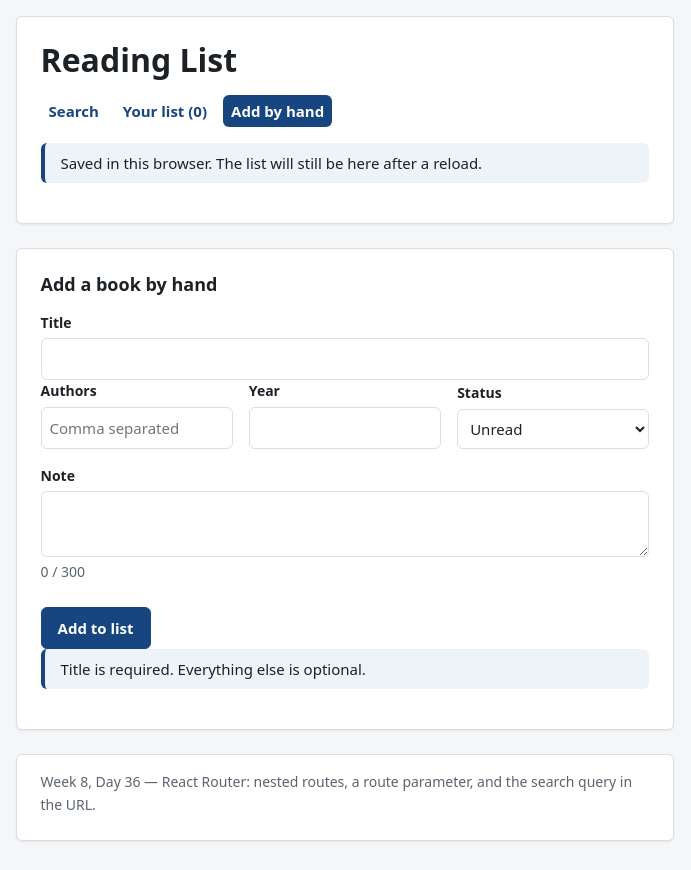
Test: filtering the list › filters by status and reports the count
The image size is (691, 870).
Type "Unread One" into the field labelled "Title".
click(345, 359); type("Unread One")  # box [40,338,649,380]
Click the button "Add to list".
click(96, 628)  # box [40,608,151,650]
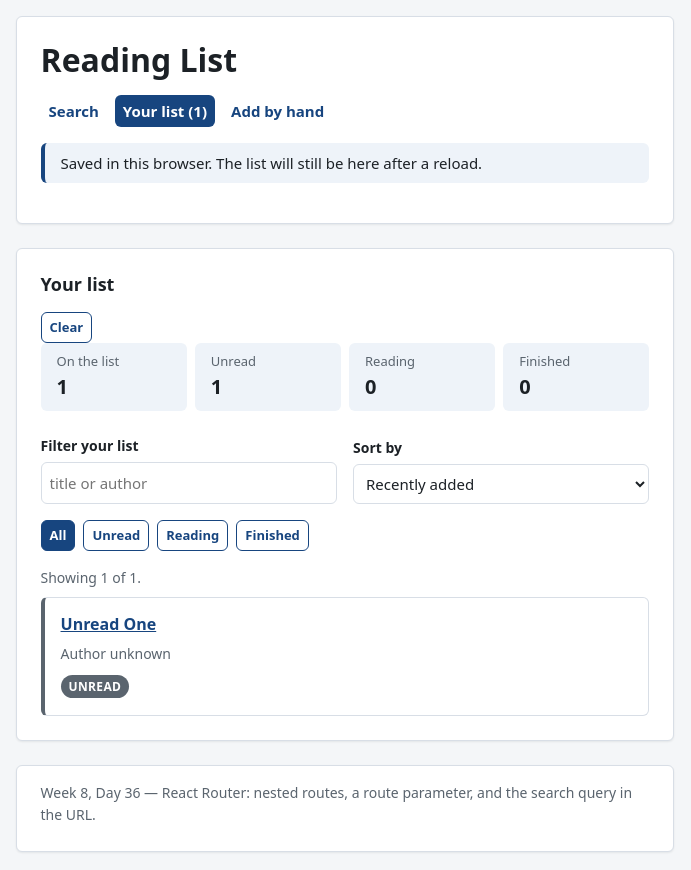
Click the link "Add by hand".
click(278, 111)  # box [223,95,332,127]
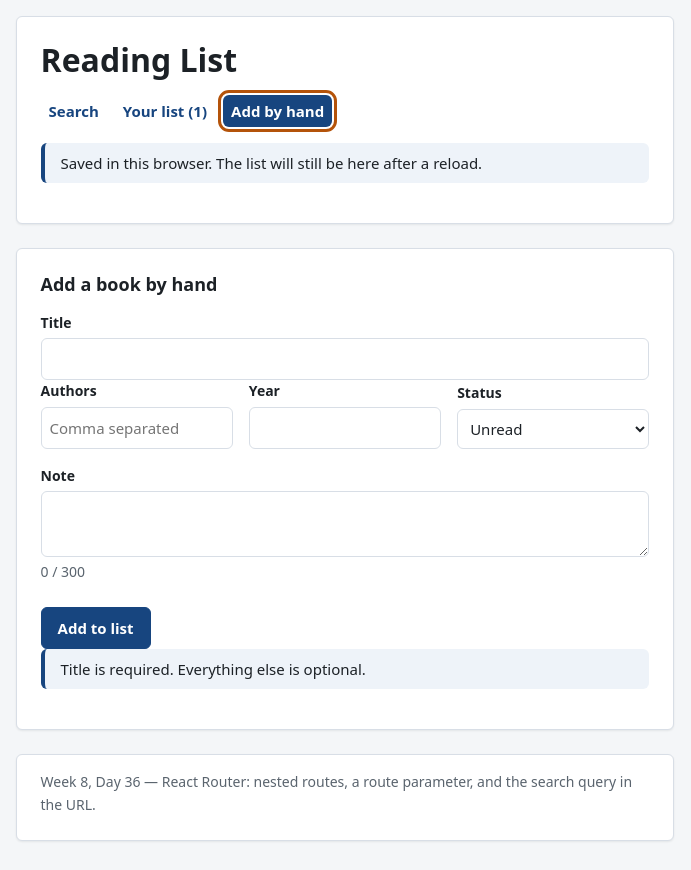
Type "Reading One" into the field labelled "Title".
click(345, 359); type("Reading One")  # box [40,338,649,380]
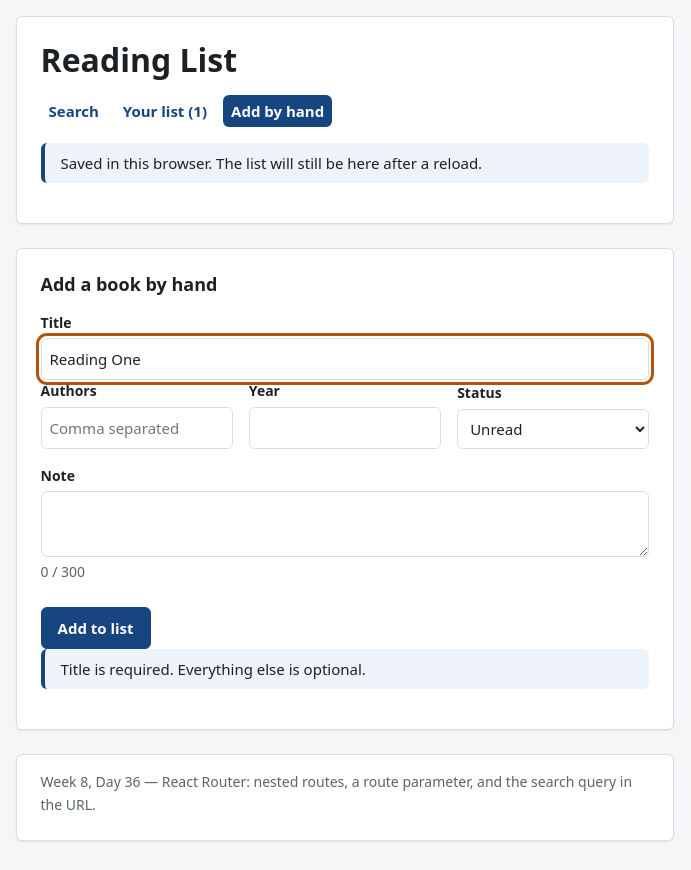
Select "Reading" in the dropdown labelled "Status" at (553, 429), box [457,409,650,449]
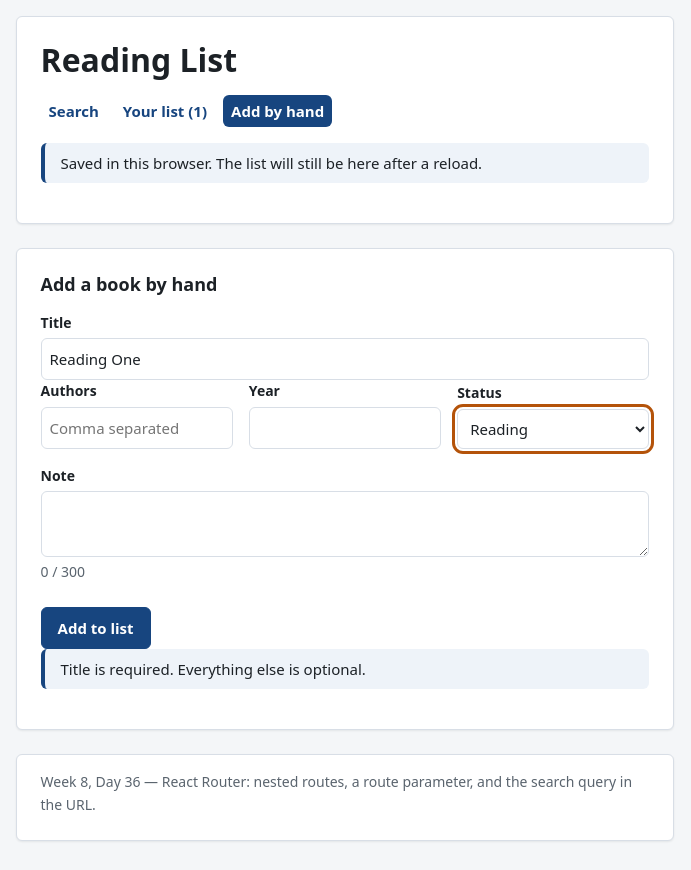
Click the button "Add to list".
click(96, 628)  # box [40,608,151,650]
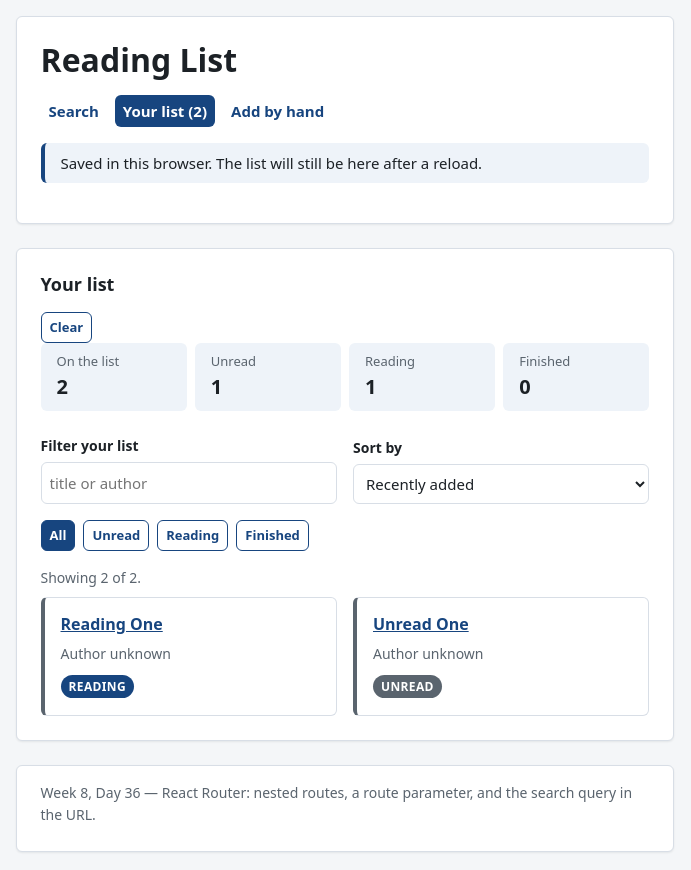
Check: the text "Showing 2 of 2." is shown, box [40,568,141,587]
Click the button "Reading".
click(193, 535)  # box [157,520,228,551]
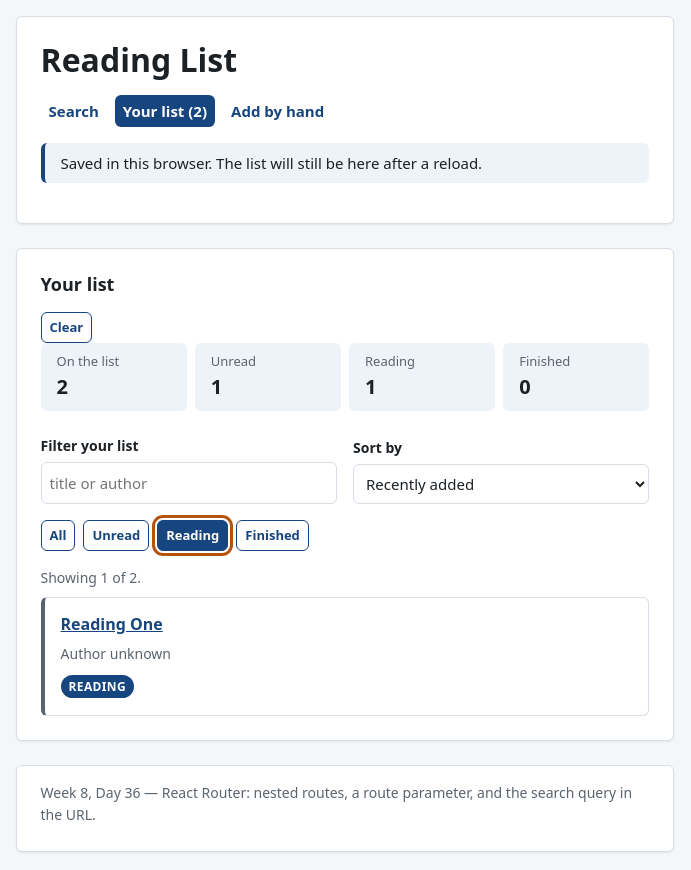
Check: the link "Reading One" is shown, box [60,613,163,635]
Check: the text "Showing 1 of 2." is shown, box [40,568,141,587]
Check: the link "Unread One" is gone
